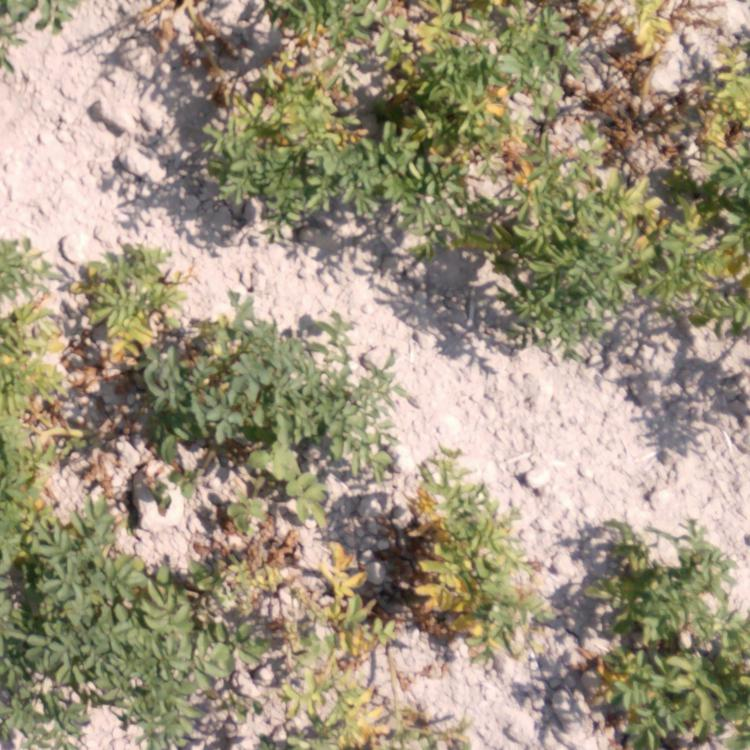healthy: (155, 315, 364, 502), (4, 570, 224, 744), (1, 502, 165, 571), (7, 1, 79, 77)
stressed: (503, 156, 750, 335), (566, 515, 747, 750), (360, 1, 501, 244), (203, 67, 361, 237), (503, 1, 682, 149), (377, 460, 526, 635), (255, 657, 457, 750), (1, 224, 68, 500), (230, 514, 366, 637), (80, 244, 155, 410), (697, 1, 750, 153), (220, 1, 349, 52), (130, 1, 203, 40)
